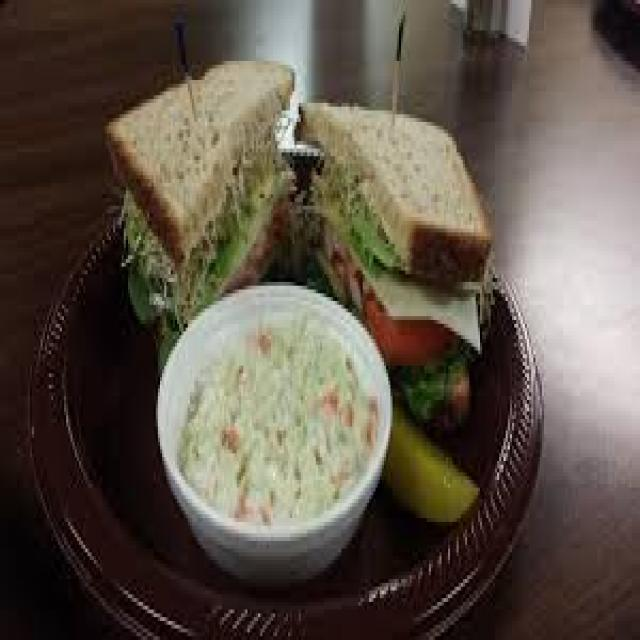Sandwich: (98, 38, 497, 412)
